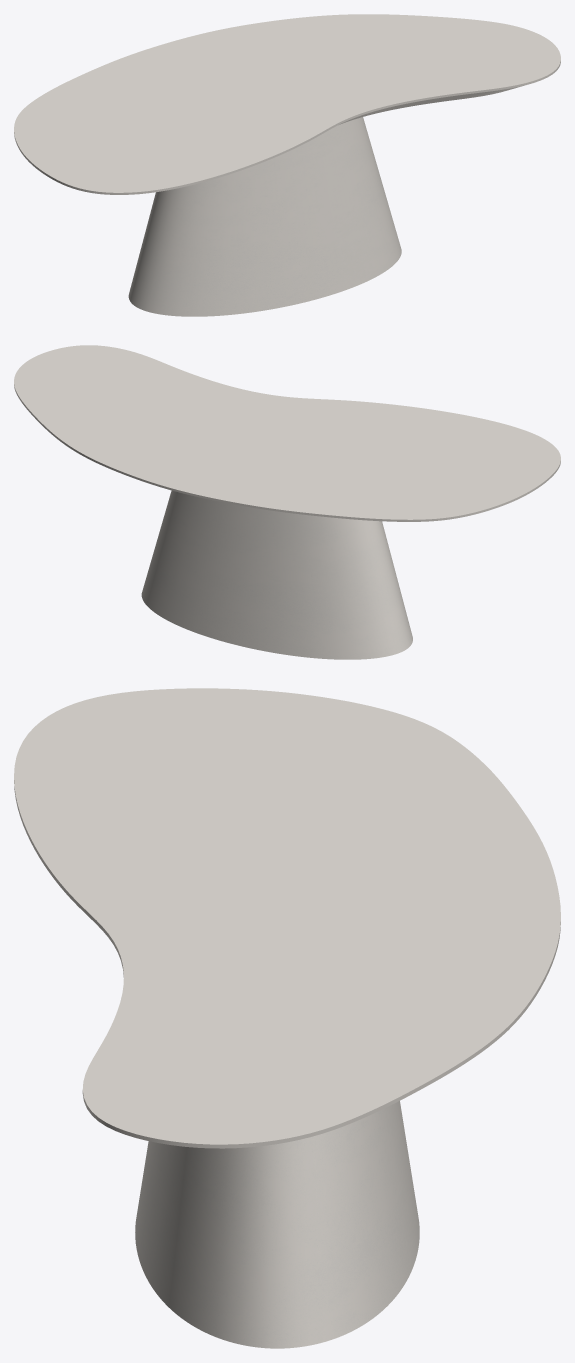
File: purewhite_leaf1_facet_eqone.glb
3 renders of one model, top to bottom at view 1: azimuth 30°, elevation 25°; view 2: azimuth 150°, elevation 25°; view 3: azimuth 270°, elevation 25°, orthographic. The views are drawn at different scales.
Parts seen in each view (by area): view 1: facet_leaf1, eqone; view 2: facet_leaf1, eqone; view 3: facet_leaf1, eqone.
Part boxes in pixels (left/top/right/bottom): facet_leaf1: left=14, top=14, right=560, bottom=194; eqone: left=128, top=117, right=401, bottom=316; facet_leaf1: left=14, top=345, right=560, bottom=521; eqone: left=141, top=490, right=412, bottom=659; facet_leaf1: left=14, top=688, right=560, bottom=1148; eqone: left=135, top=1101, right=419, bottom=1348.
Size of the model in its own units: 7.5 by 2.5 by 3.8.
Materials: 1 (1 with a texture image).
